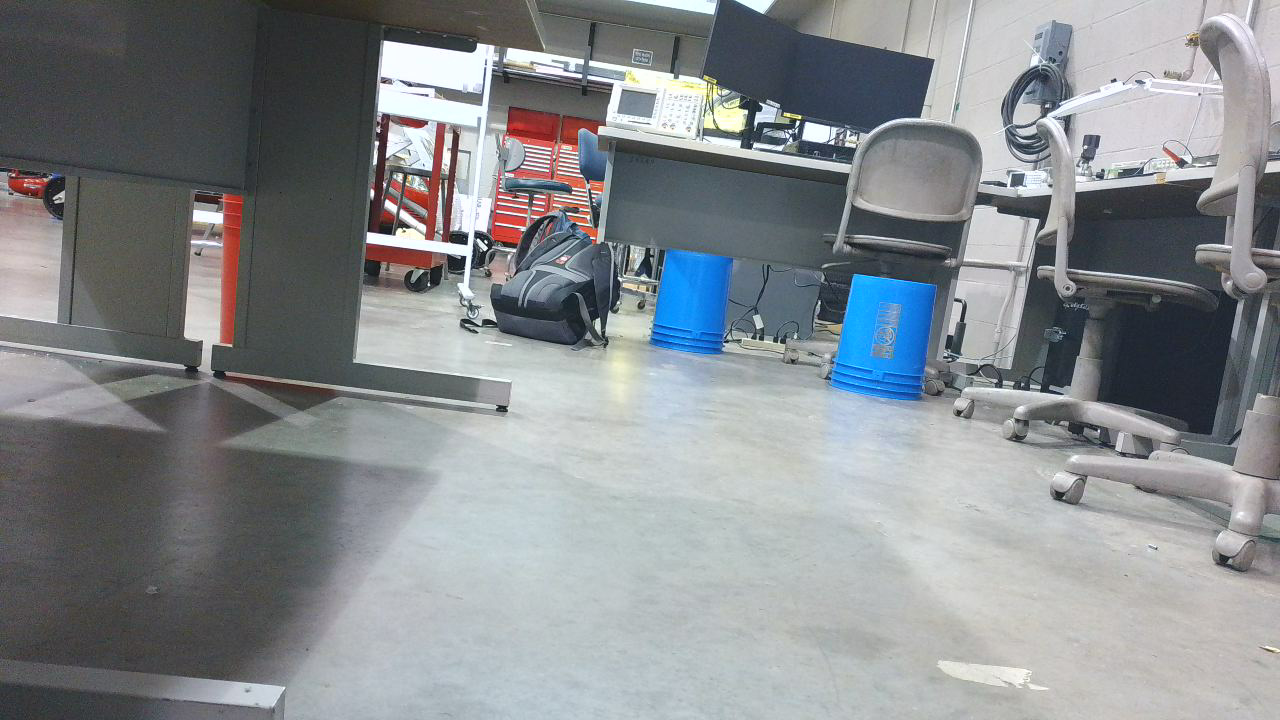blue_bucket: (831, 275, 944, 408), (654, 251, 740, 360)
